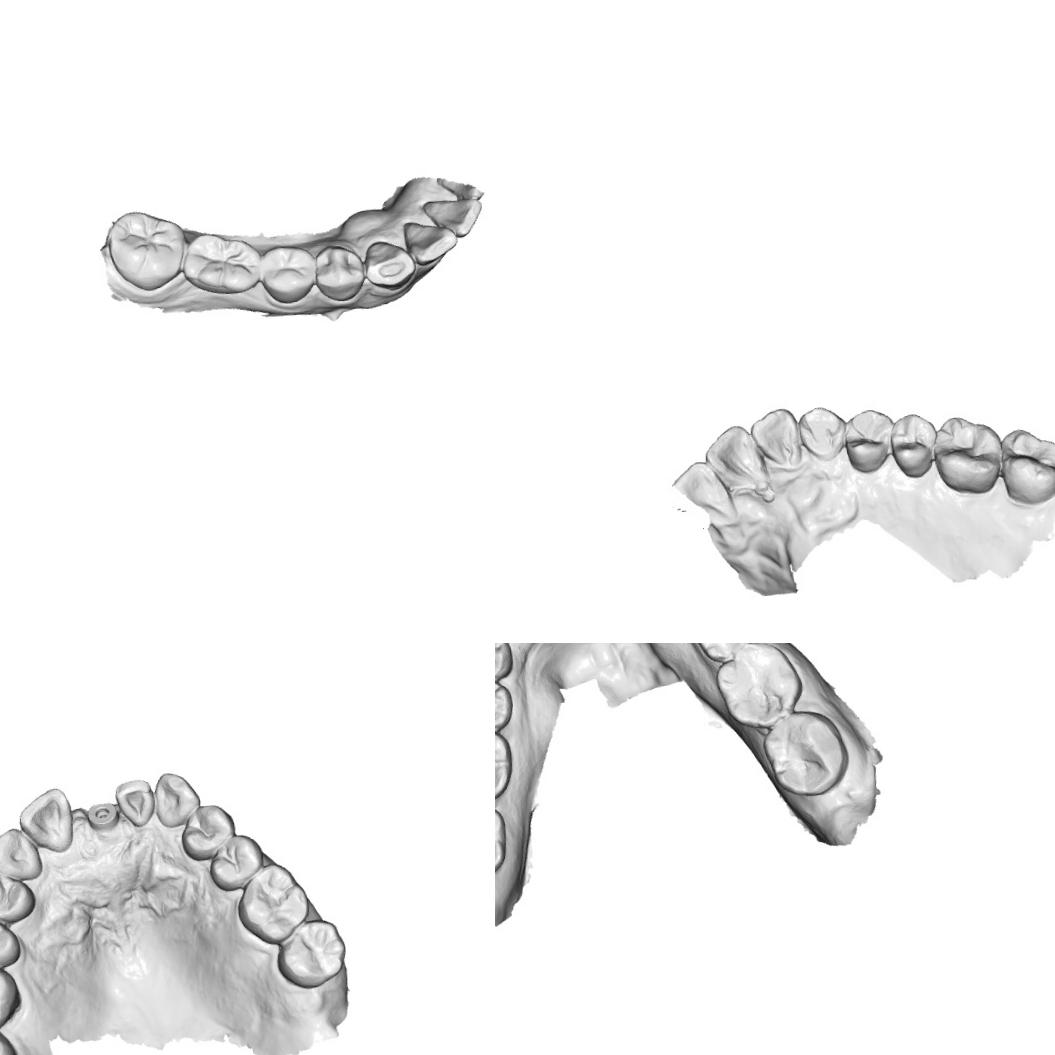canine: (357, 232, 419, 294), (150, 768, 202, 828), (796, 403, 847, 464), (0, 824, 43, 883)
implant: (85, 799, 120, 831)
incisor: (701, 422, 770, 490), (16, 785, 76, 855), (747, 404, 804, 474), (418, 190, 486, 242), (399, 212, 460, 268), (113, 776, 156, 829)
molar: (752, 707, 852, 800), (712, 643, 808, 729), (103, 204, 190, 296), (234, 860, 312, 947), (928, 412, 1005, 498), (176, 225, 264, 300), (273, 916, 348, 990), (997, 424, 1055, 506), (0, 951, 22, 1032), (495, 794, 513, 893), (495, 725, 515, 805)
premolar: (254, 238, 319, 306), (840, 406, 898, 473), (887, 410, 941, 480), (310, 238, 365, 305), (178, 801, 238, 862), (206, 832, 266, 892), (0, 868, 37, 926), (689, 643, 762, 671), (0, 912, 21, 970), (495, 669, 513, 733), (495, 643, 517, 682)
